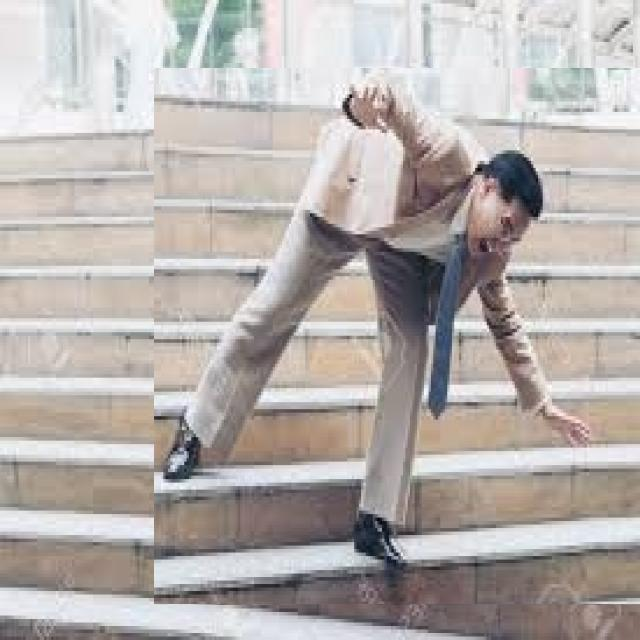NotFall: (140, 51, 589, 552)
